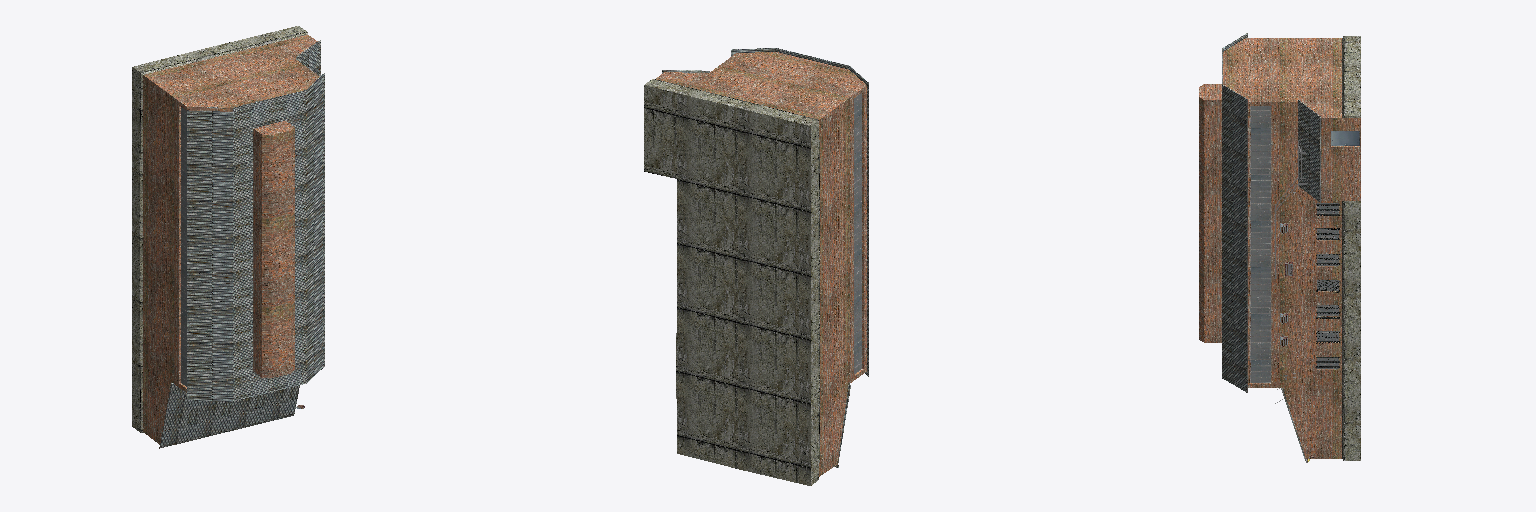
3 views of the same model, side by side, from view 1: azimuth 30°, elevation 25°; view 2: azimuth 150°, elevation 25°; view 3: azimuth 270°, elevation 25° (orthographic).
Parts seen in each view (by area): view 1: MDL_Box011; view 2: MDL_Box011; view 3: MDL_Box011.
Part boxes in pixels (bbox=[...]): MDL_Box011: bbox=[132, 26, 324, 448]; MDL_Box011: bbox=[644, 48, 868, 485]; MDL_Box011: bbox=[1199, 33, 1360, 462].
Bounding box in the file's own units: 24.5 × 50.02 × 20.25.
13 materials, 11 textured.